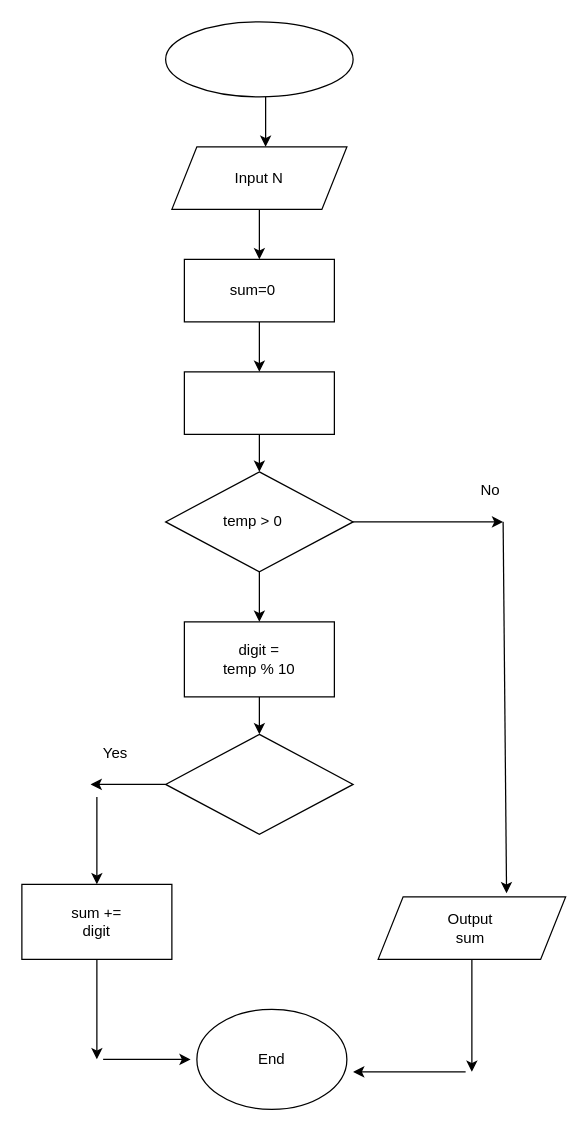
This 588x1131 diagram has some shape labels left out. Each missing label, with the centre of its shape:
"digit > 5?" goes at (258,783).
"Start" goes at (258,59).
"temp = N" goes at (258,402).
